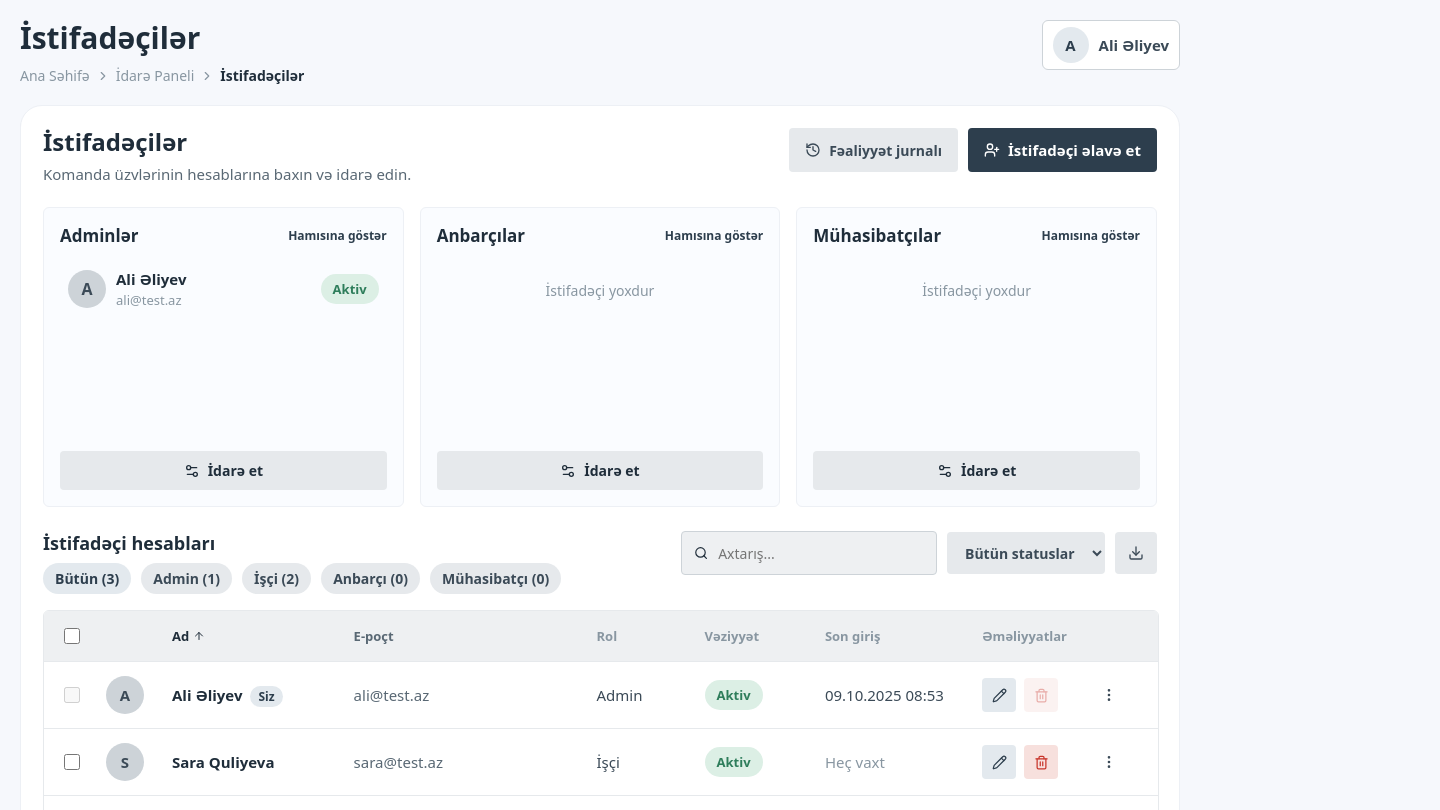
Test: activity log lists readable sentences and loads more
Expected: the 1st element with test id "user-row" is shown, [44, 662, 1158, 729]
What coordinates should you click on to do the following:
click the button "Fəaliyyət jurnalı"
I would click on:
 (874, 150)
Its box is [789, 128, 958, 172].
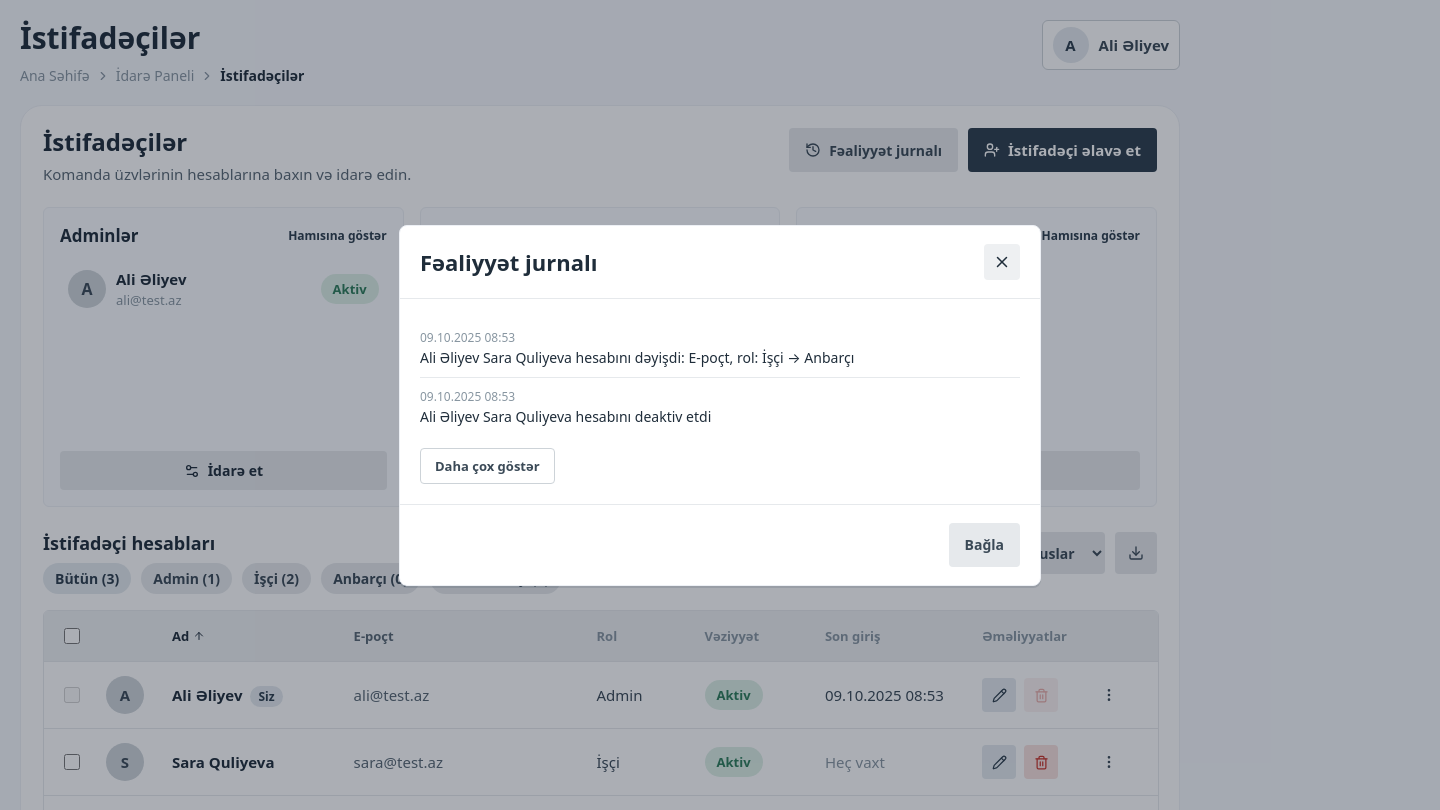
Expected: the text "Ali Əliyev Sara Quliyeva hesabını dəyişdi: E-poçt, rol: İşçi → Anbarçı" is shown, [420, 348, 854, 366]
Expected: the text "Ali Əliyev Sara Quliyeva hesabını deaktiv etdi" is shown, [420, 406, 711, 426]
What coordinates should you click on to do the following:
click the button "Daha çox göstər"
I would click on:
 (487, 466)
Its box is [420, 448, 555, 484].
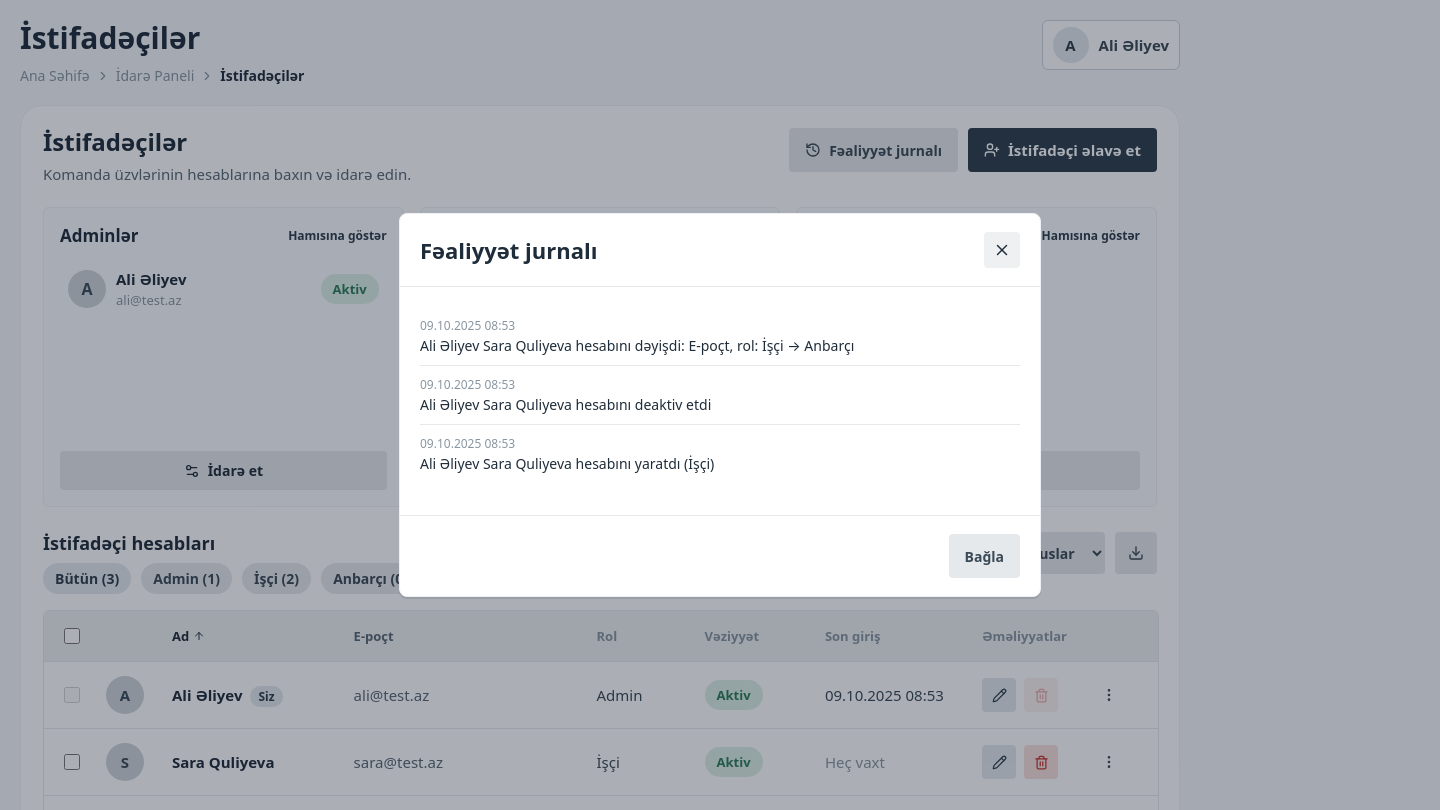
Expected: the text "Ali Əliyev Sara Quliyeva hesabını yaratdı (İşçi)" is shown, [420, 454, 714, 473]
Expected: the button "Daha çox göstər" is gone
